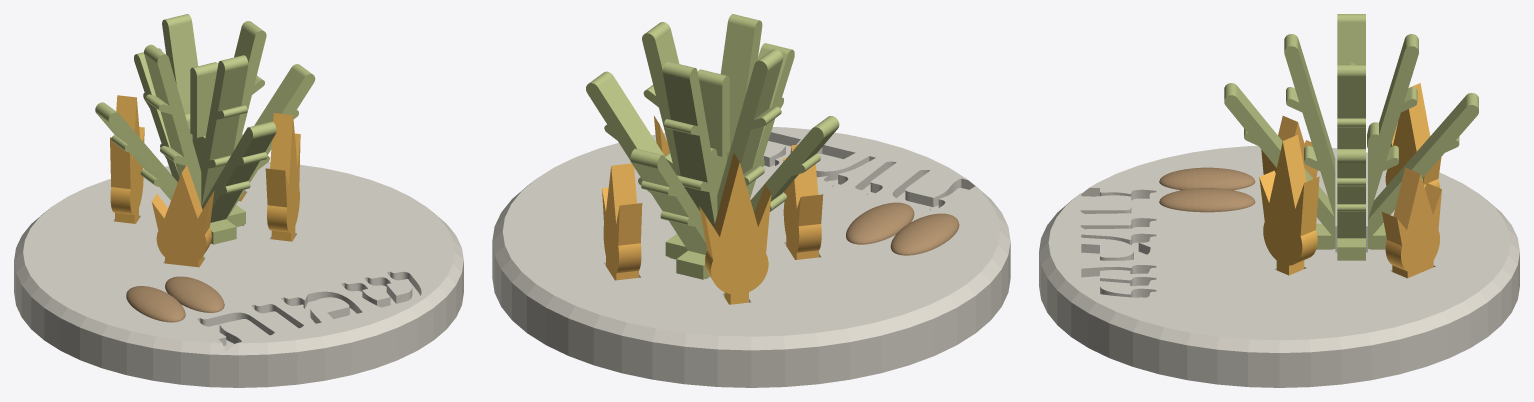
Rendered from shemot.glb.
The picture shows the model from 3 angles, left to right: view 1: azimuth 30°, elevation 25°; view 2: azimuth 150°, elevation 25°; view 3: azimuth 270°, elevation 25°; orthographic projection. The views are drawn at different scales.
Parts seen in each view (by area): view 1: stage, bush-b, bush-a, flame-3, flame-4, flame-2, sandal-1, sandal-2; view 2: stage, bush-b, bush-a, flame-2, flame-1, flame-3, sandal-1, sandal-2; view 3: stage, bush-b, bush-a, flame-4, flame-1, flame-2, sandal-2, sandal-1, flame-3.
Part boxes in pixels (<box>): stage: <box>14,162,463,387</box>; bush-b: <box>134,14,276,244</box>; bush-a: <box>95,21,315,226</box>; flame-3: <box>151,165,214,267</box>; flame-4: <box>265,113,300,241</box>; flame-2: <box>110,95,144,223</box>; sandal-1: <box>126,286,185,322</box>; sandal-2: <box>165,276,224,312</box>; stage: <box>492,127,1010,387</box>; bush-b: <box>630,14,794,279</box>; bush-a: <box>586,22,839,259</box>; flame-2: <box>699,152,771,304</box>; flame-1: <box>602,163,642,280</box>; flame-3: <box>783,144,823,259</box>; sandal-1: <box>890,213,959,255</box>; sandal-2: <box>846,202,914,244</box>; stage: <box>1039,145,1519,387</box>; bush-b: <box>1224,34,1478,249</box>; bush-a: <box>1337,14,1365,260</box>; flame-4: <box>1259,135,1319,275</box>; flame-1: <box>1382,167,1441,278</box>; flame-2: <box>1385,83,1441,187</box>; sandal-2: <box>1159,188,1255,212</box>; sandal-1: <box>1159,167,1255,190</box>; flame-3: <box>1261,116,1317,178</box>.
Size of the model in its own units: 40 by 22.6 by 40.
